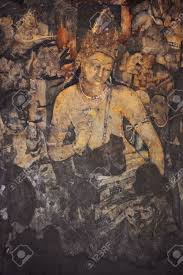Bodhisatva Padampani: (5, 2, 177, 264)
